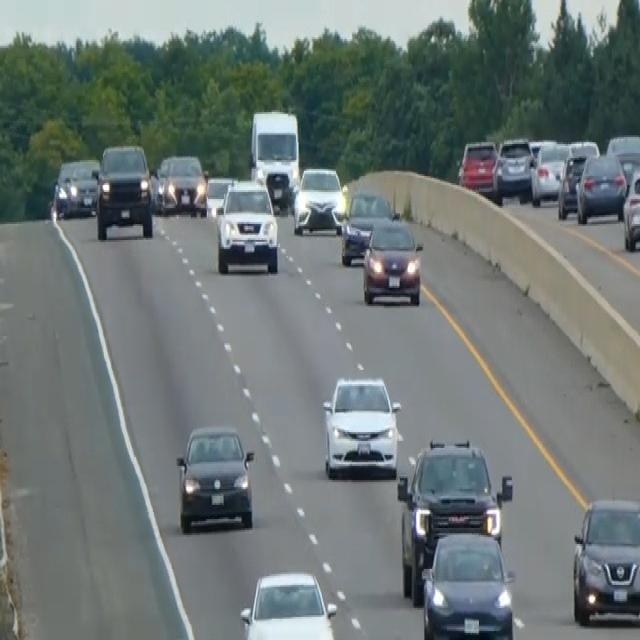car: (421, 528, 515, 638), (571, 494, 639, 626), (175, 422, 255, 534), (321, 374, 401, 478), (238, 569, 338, 638), (361, 217, 423, 306), (340, 188, 396, 265), (292, 163, 346, 234), (575, 149, 626, 224), (158, 153, 207, 215), (53, 156, 99, 218), (493, 135, 534, 201), (530, 138, 570, 204), (457, 137, 499, 195), (557, 151, 587, 219), (204, 172, 236, 220), (622, 165, 639, 251), (53, 158, 76, 217), (152, 153, 174, 211), (264, 167, 291, 212), (605, 132, 639, 162)
jeep: (396, 433, 513, 602), (213, 174, 280, 276), (93, 140, 154, 240)
minibus: (247, 105, 301, 208)
